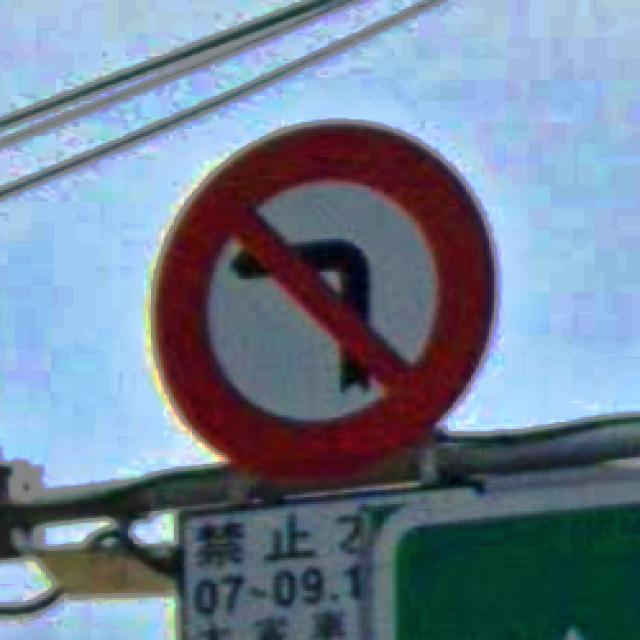noturnleft: (146, 115, 499, 485)
